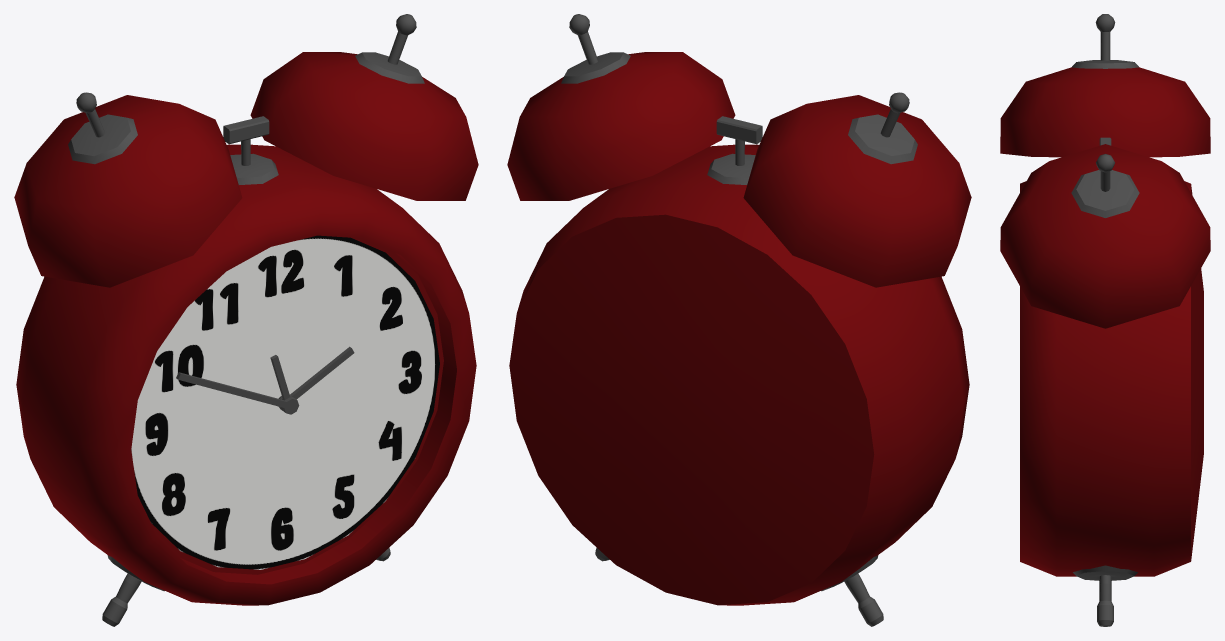
File: Alarm_Clock.fbx
3 renders of one model, left to right at view 1: azimuth 30°, elevation 25°; view 2: azimuth 150°, elevation 25°; view 3: azimuth 270°, elevation 25°, orthographic. The views are drawn at different scales.
Visible parts, largest first — view 1: Alarm Clock; view 2: Alarm Clock; view 3: Alarm Clock.
Part boxes in pixels (left/top/right/bottom): Alarm Clock: left=14, top=14, right=478, bottom=626; Alarm Clock: left=507, top=14, right=971, bottom=626; Alarm Clock: left=1000, top=14, right=1210, bottom=626.
Bounding box in the file's own units: 46.47 × 21.59 × 54.89.
